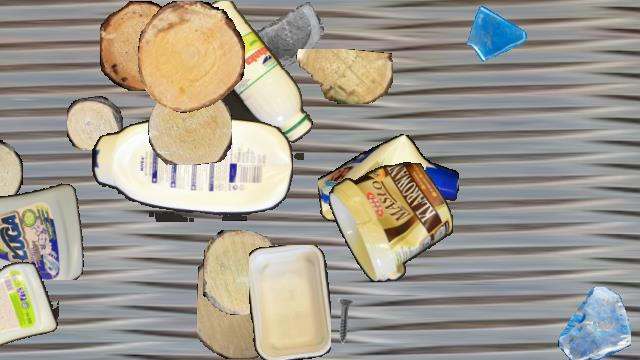glass: (558, 287, 630, 359), (252, 1, 324, 73), (465, 1, 529, 65)
metal: (262, 247, 322, 307), (320, 297, 368, 345)
plastic: (92, 118, 292, 222), (184, 1, 314, 159), (328, 162, 452, 282), (318, 133, 458, 229), (249, 245, 331, 359), (0, 176, 87, 280), (0, 257, 59, 359), (0, 217, 21, 339)
wood: (138, 1, 244, 113), (197, 247, 285, 359), (100, 1, 182, 91), (203, 230, 283, 314), (148, 84, 232, 164), (295, 49, 393, 103), (67, 96, 123, 150), (0, 140, 22, 204)
